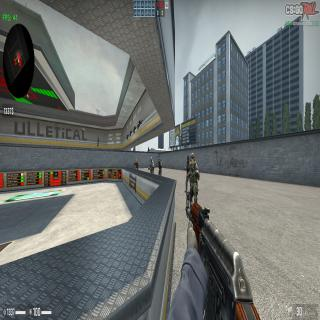CT-Body: (187, 153, 200, 203), (185, 155, 191, 195), (148, 157, 154, 175), (157, 158, 162, 176)
CT-Head: (190, 153, 195, 166), (187, 156, 190, 163), (150, 157, 152, 163), (159, 158, 160, 162)
T-Body: (134, 159, 139, 170)
T-Head: (136, 158, 137, 162)
